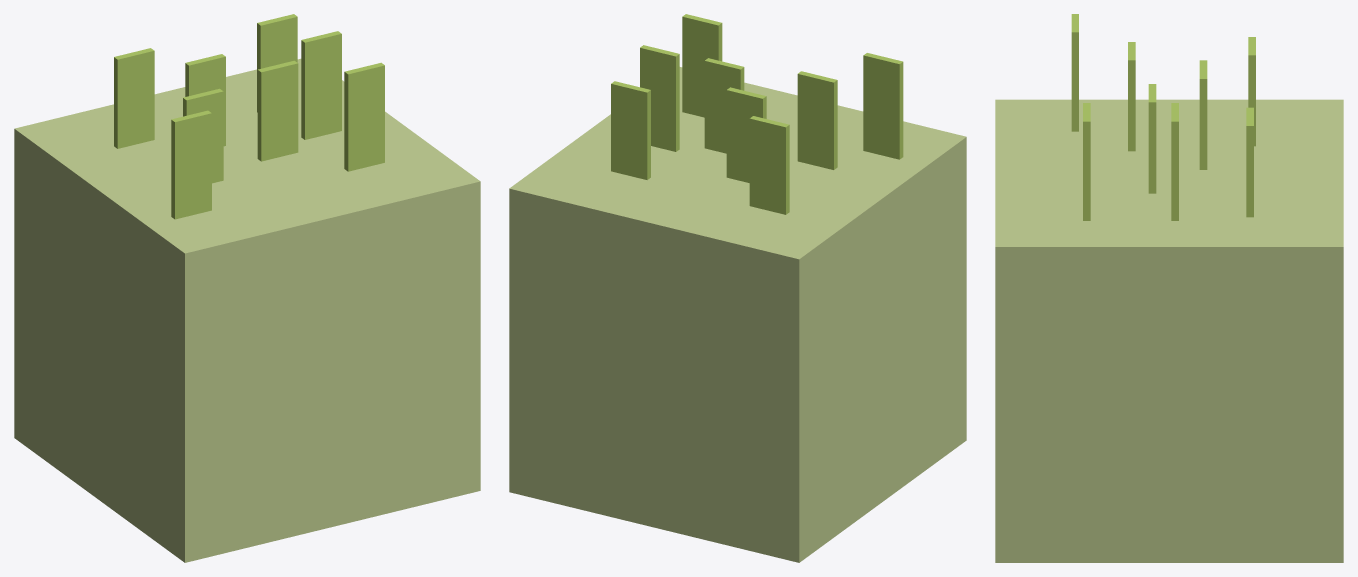
The model's file is floor_grass_grass.fbx.
3 views of the same model, side by side, from view 1: azimuth 30°, elevation 25°; view 2: azimuth 150°, elevation 25°; view 3: azimuth 270°, elevation 25° (orthographic). The views are drawn at different scales.
Visible parts, largest first — view 1: floor_grass_grass; view 2: floor_grass_grass; view 3: floor_grass_grass.
Part boxes in pixels (<box>): floor_grass_grass: <box>14,14,480,562</box>; floor_grass_grass: <box>509,14,966,562</box>; floor_grass_grass: <box>995,14,1343,562</box>.
Size of the model in its own units: 5 by 6.57 by 5.
